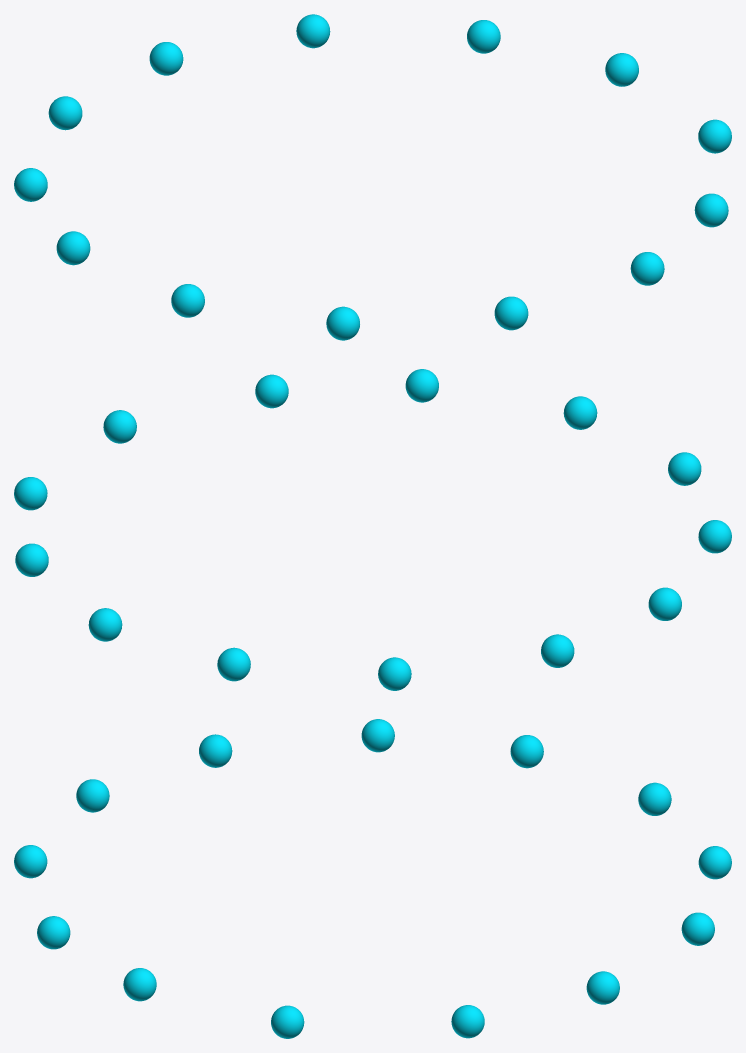
3 renders of one model, top to bottom at view 1: azimuth 30°, elevation 25°; view 2: azimuth 150°, elevation 25°; view 3: azimuth 270°, elevation 25°, orthographic.
Visible parts, largest first — view 1: Sphere050; view 2: Sphere050; view 3: Sphere050.
Part boxes in pixels (bbox=[...]): Sphere050: bbox=[14, 14, 731, 340]; Sphere050: bbox=[14, 369, 731, 690]; Sphere050: bbox=[14, 719, 731, 1038].
Bounding box in the file's own units: 175 × 8.22 × 177.
